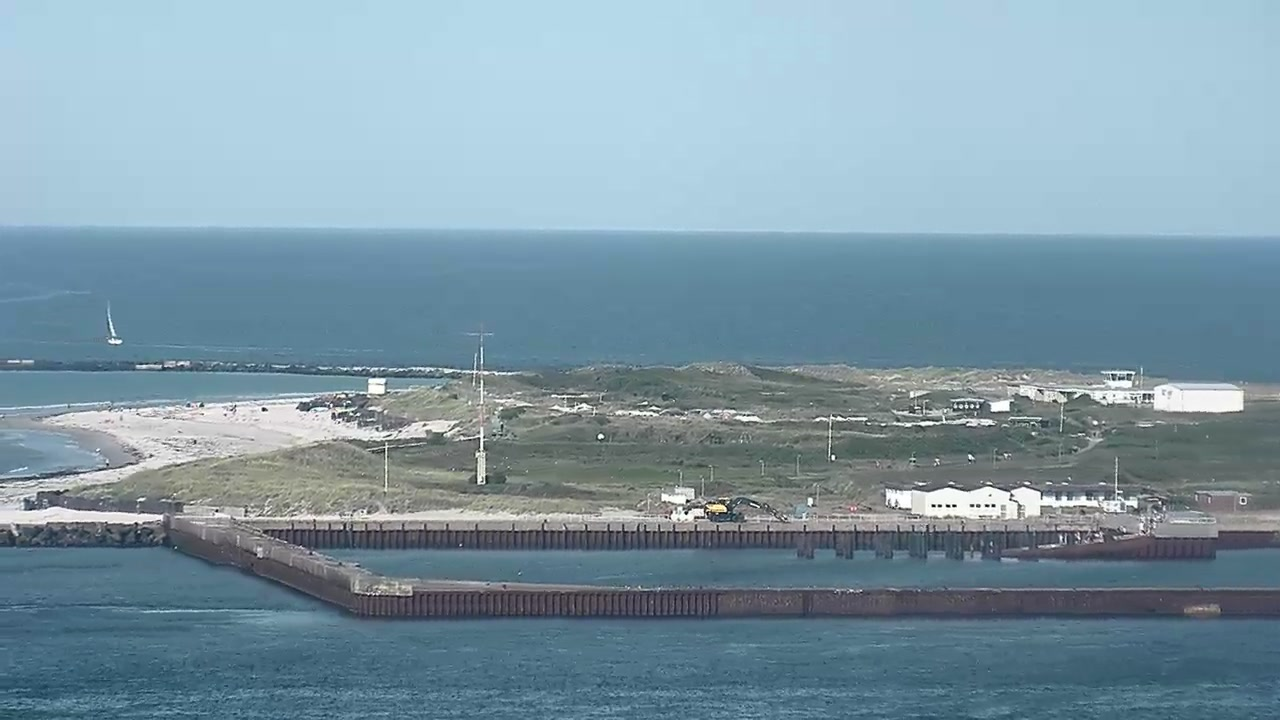human: (499, 421, 504, 433)
land: (704, 494, 789, 522)
sea: (102, 297, 124, 345)
